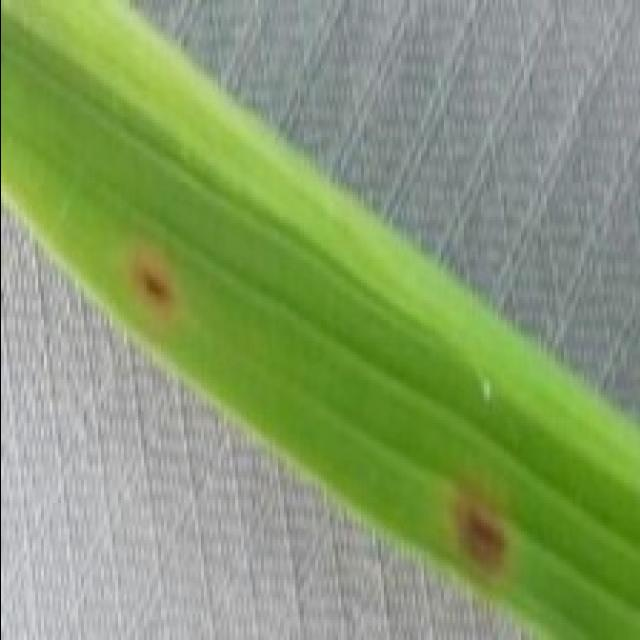Unhealthy: (450, 486, 523, 580), (129, 231, 200, 319)
